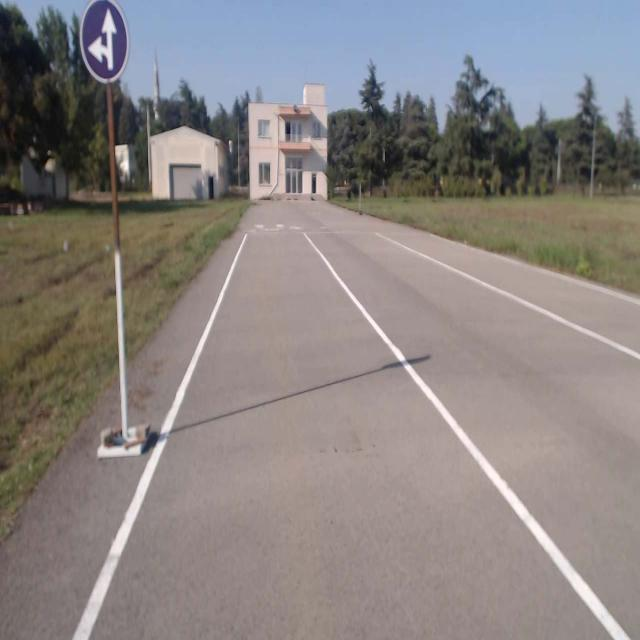ilerisol: (79, 1, 129, 83)
